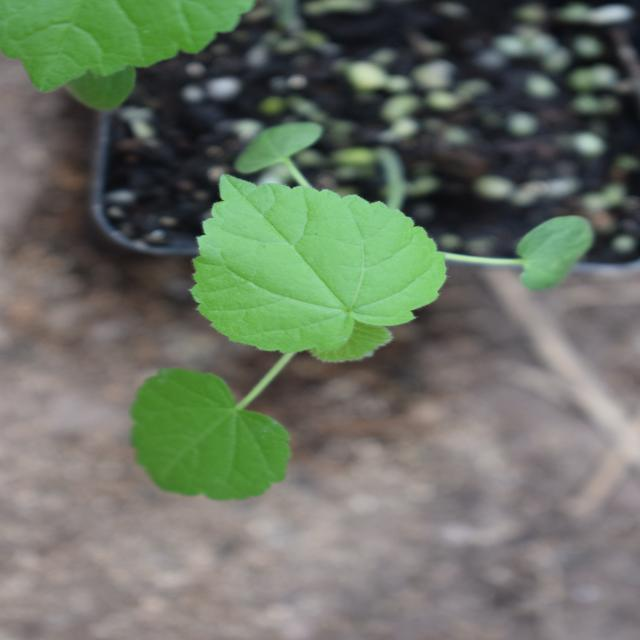abutilon theophrasti: (121, 50, 505, 552)
